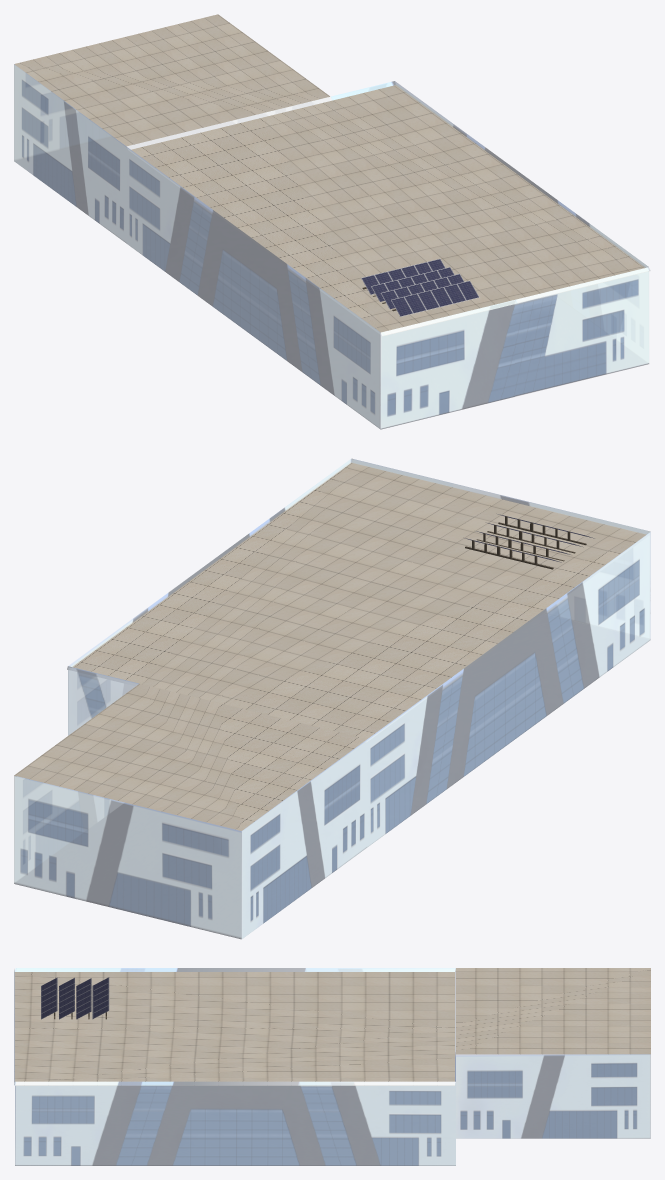
Rendered from yupontfac.glb.
3 views of the same model, one above another, from view 1: azimuth 30°, elevation 25°; view 2: azimuth 150°, elevation 25°; view 3: azimuth 270°, elevation 25° (orthographic). The views are drawn at different scales.
Parts seen in each view (by area): view 1: 立方体, 平面.004; view 2: 立方体, 平面.004; view 3: 立方体, 平面.004.
Boxes of the visible parts, left/top/right/bottom form: 立方体: left=14, top=14, right=650, bottom=429; 平面.004: left=361, top=258, right=479, bottom=316; 立方体: left=14, top=458, right=650, bottom=939; 平面.004: left=463, top=513, right=594, bottom=569; 立方体: left=14, top=968, right=650, bottom=1165; 平面.004: left=41, top=977, right=109, bottom=1019.
Bounding box in the file's own units: 5.81 × 2.13 × 13.7.
Materials: 5 (3 with a texture image).
